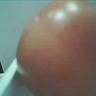tomato: (20, 0, 96, 96)
